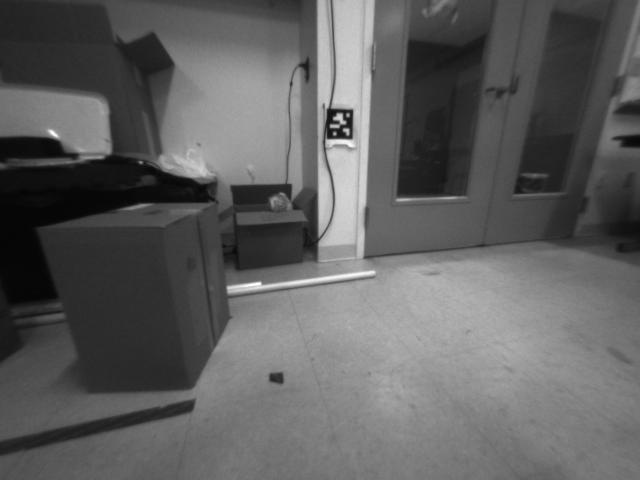door_handle: (483, 79, 509, 102)
